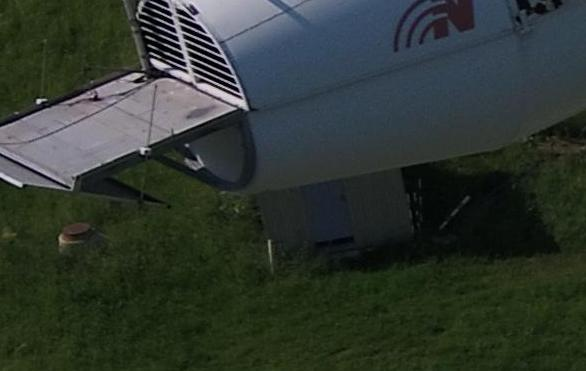damage: (515, 0, 564, 26)
